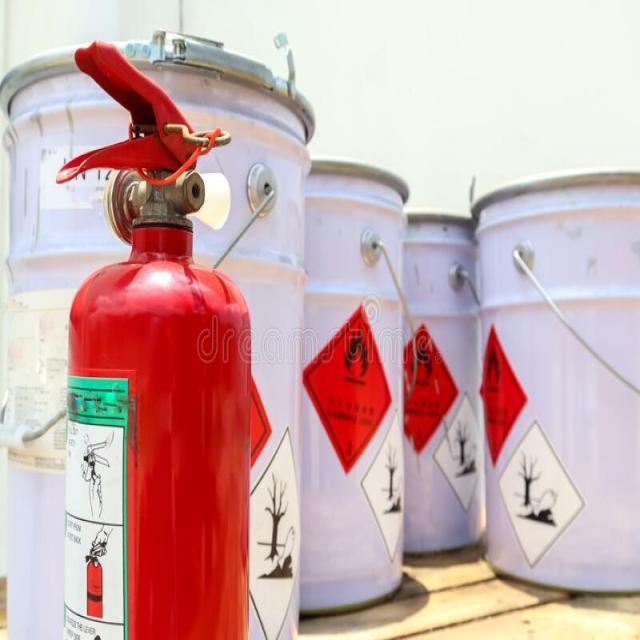fire_extinguisher: (48, 32, 261, 639)
